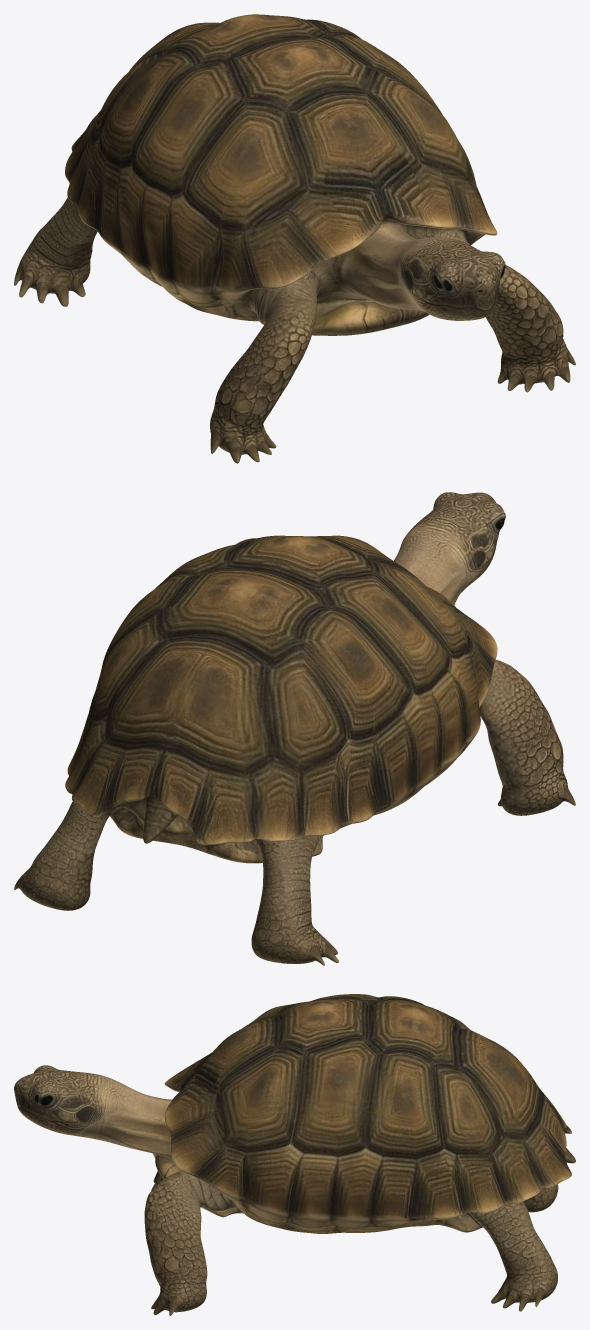
Rendered from tortoise.glb.
3 views of the same model, one above another, from view 1: azimuth 30°, elevation 25°; view 2: azimuth 150°, elevation 25°; view 3: azimuth 270°, elevation 25° (orthographic). The views are drawn at different scales.
Size of the model in its own units: 1.16 by 0.9151 by 1.9.
1 material, 1 textured.
